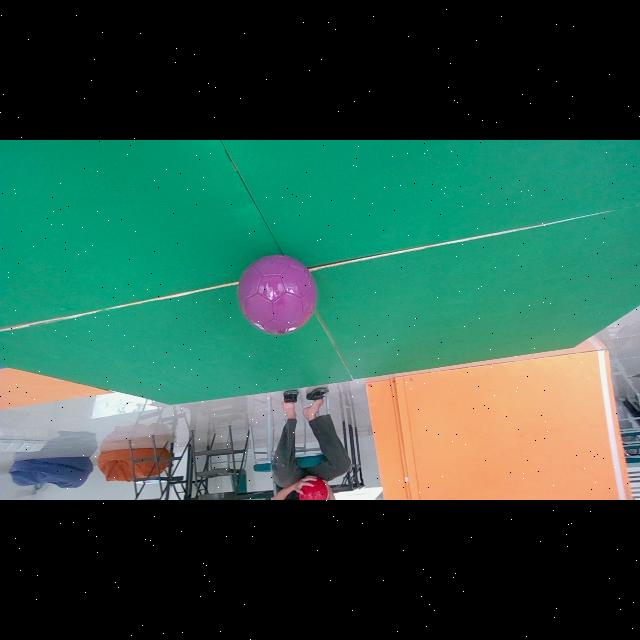P: (238, 255, 316, 334)
